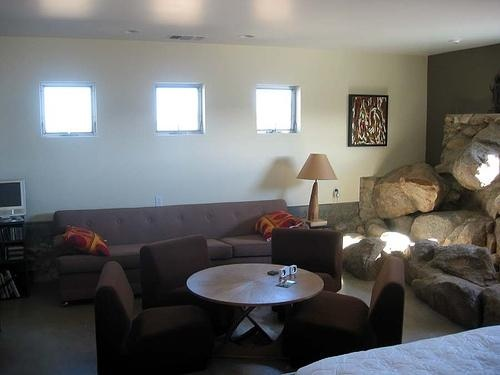chair: (281, 255, 406, 368), (94, 260, 215, 375), (141, 234, 243, 334), (272, 226, 344, 295)
sofa: (54, 198, 312, 307)
tvmonitor: (1, 178, 28, 222)
